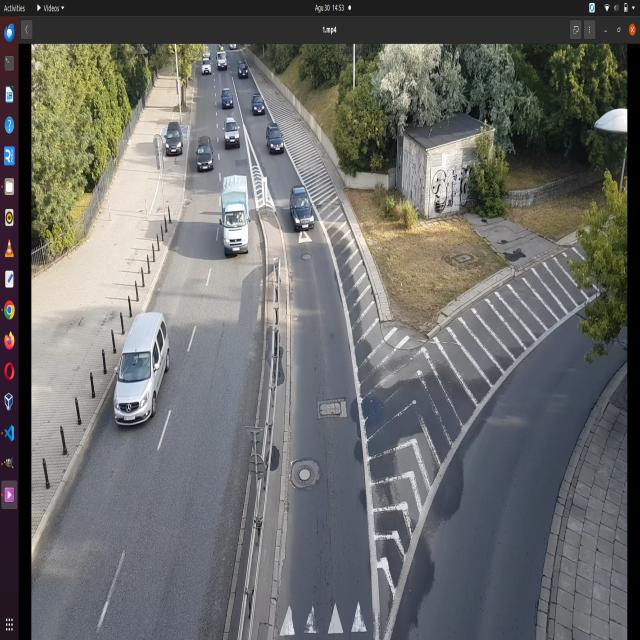person_with_seatbelt: (139, 350, 155, 375)
